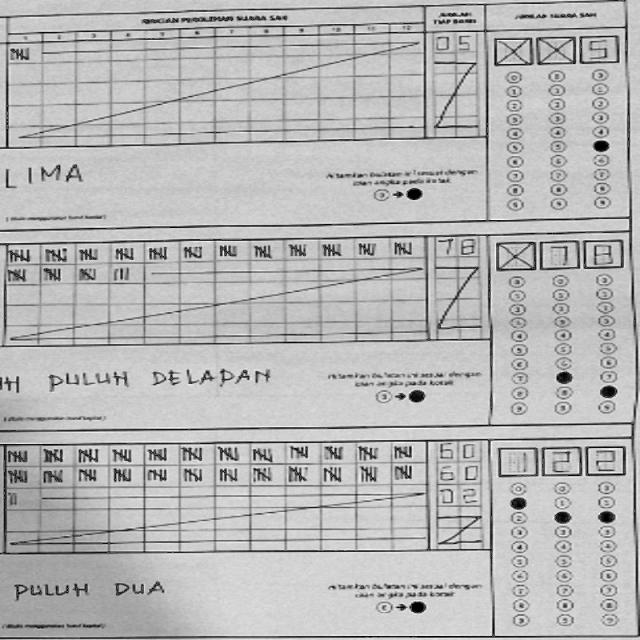Suara: (489, 441, 628, 477), (488, 30, 622, 66), (491, 239, 627, 272)
